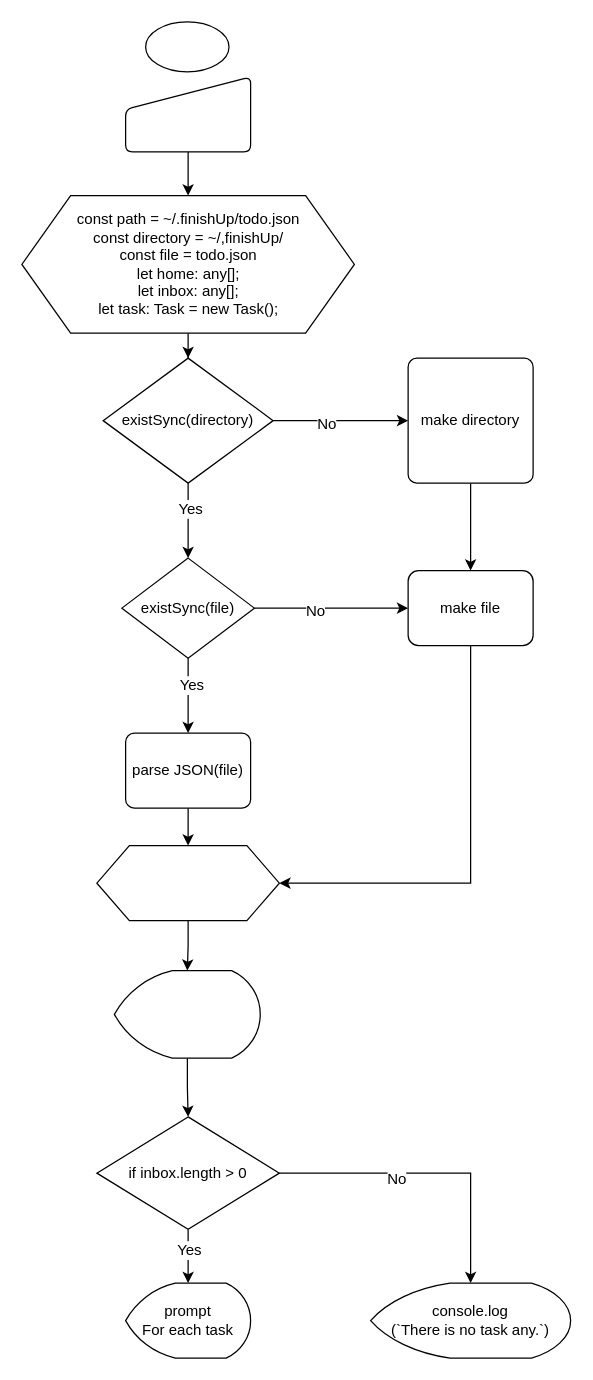
Image size: 593x1380. Some labels were removed from this diagram. The box of each missing label's shape, as (x1, y1, x2, y2) in pixels:
console.log(today);: (113, 969, 260, 1058)
Start: (144, 21, 229, 72)
today = getToday();: (96, 844, 279, 921)
User input "fu": (124, 76, 251, 152)
